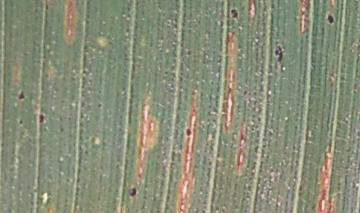tarspot: (273, 40, 284, 63), (227, 6, 241, 21), (323, 13, 338, 26), (126, 186, 139, 198), (36, 113, 47, 126), (16, 91, 27, 101), (182, 128, 192, 137)
